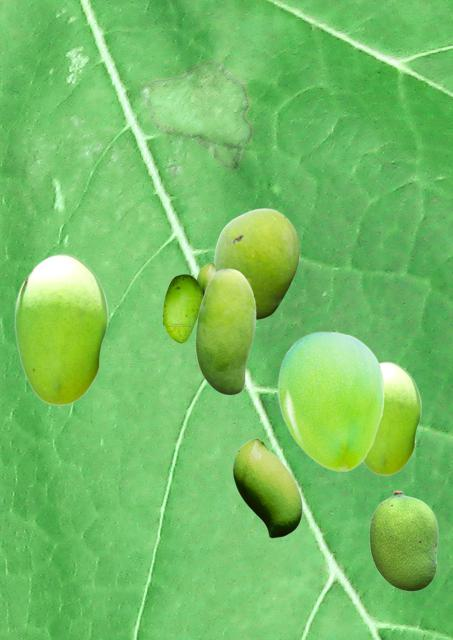green_mango: (277, 331, 383, 470), (14, 253, 107, 404), (214, 208, 298, 318), (195, 268, 255, 394), (232, 437, 301, 537), (369, 490, 437, 590), (363, 361, 420, 474), (162, 274, 202, 342), (196, 262, 214, 293)
